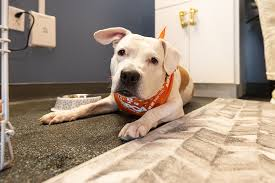dog: (39, 26, 195, 143)
